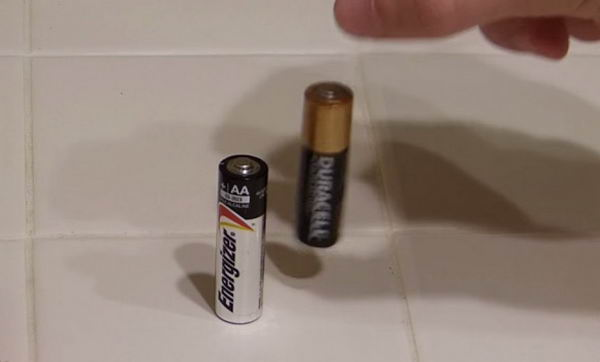Battery: (291, 77, 356, 249), (211, 151, 271, 327)
